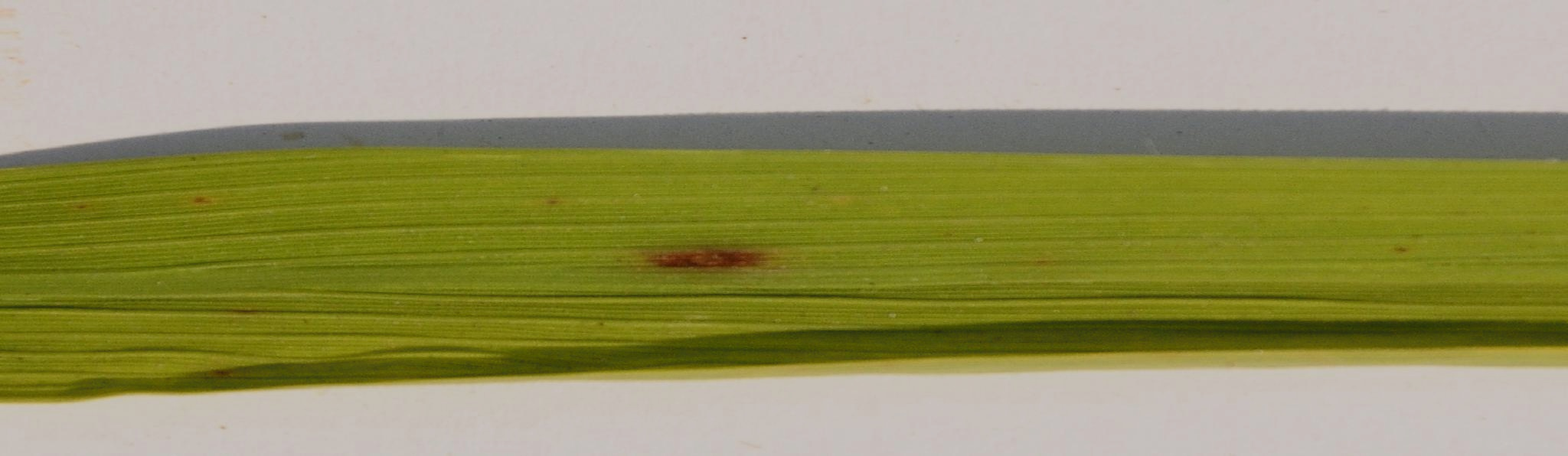Bacterial_Leaf_Blight: (603, 205, 805, 297)
